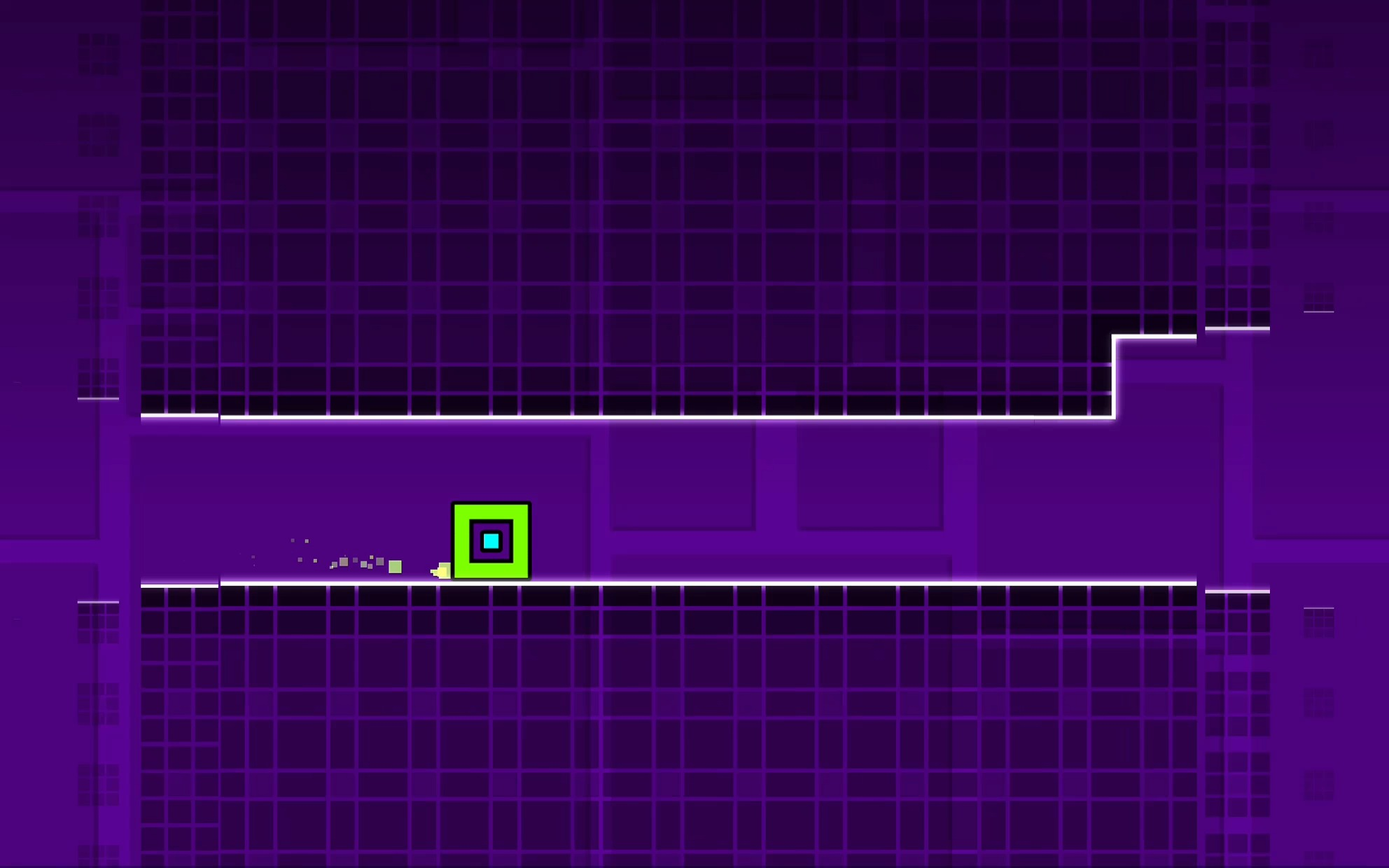Block2: (143, 0, 1116, 420), (139, 573, 1281, 850), (1112, 6, 1303, 328)
Player: (450, 503, 532, 578)
